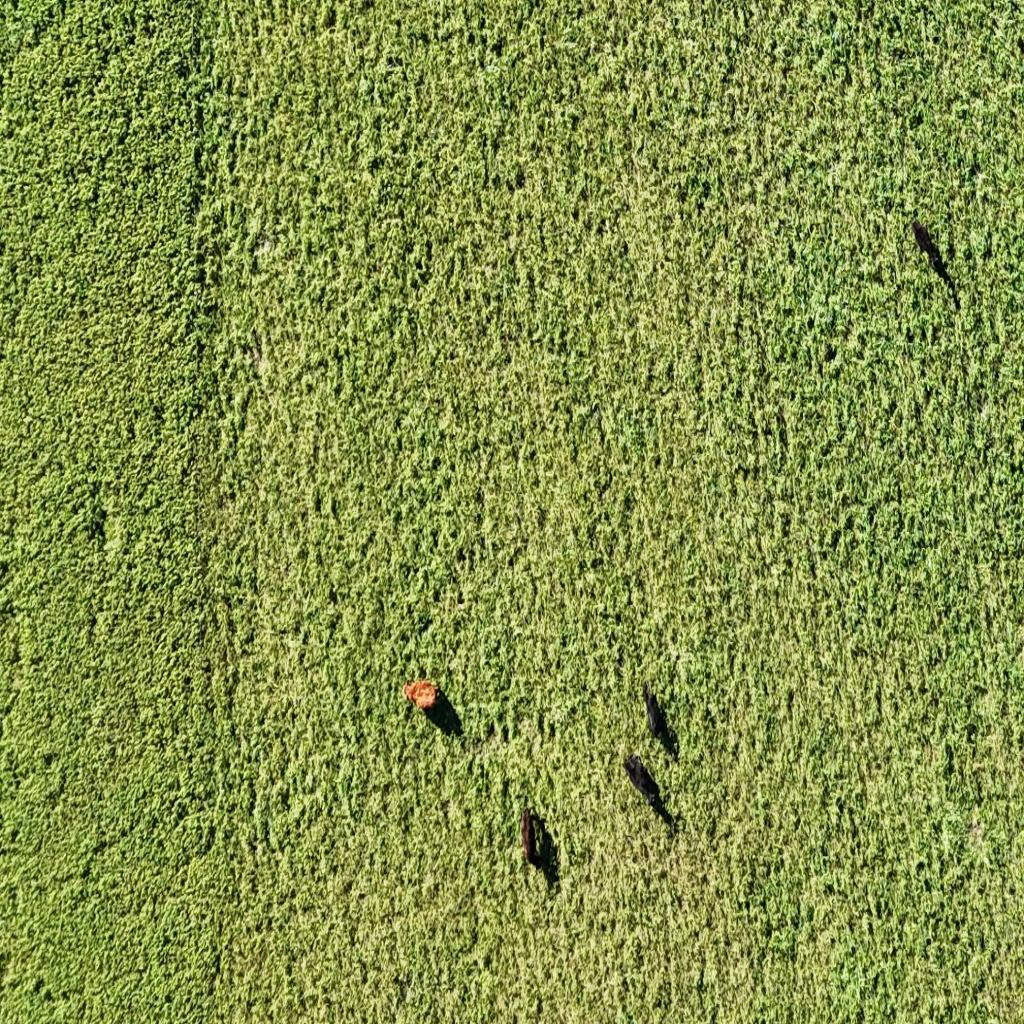cow: (624, 753, 660, 810), (520, 801, 544, 869), (406, 674, 445, 715), (642, 680, 668, 740), (912, 219, 942, 269)
